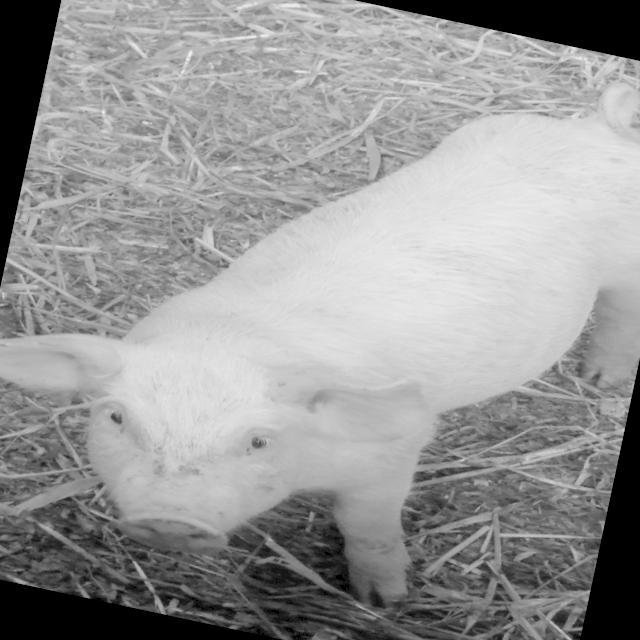pig: (0, 81, 640, 612)
